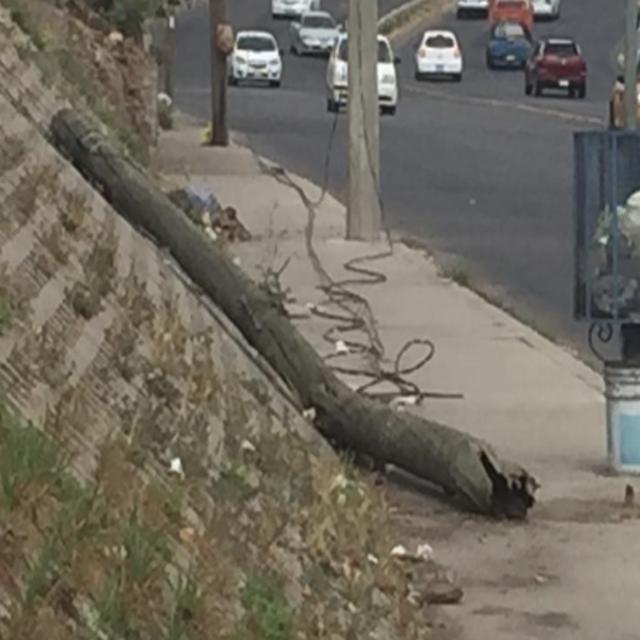Inclined Pole: (46, 105, 540, 531)
